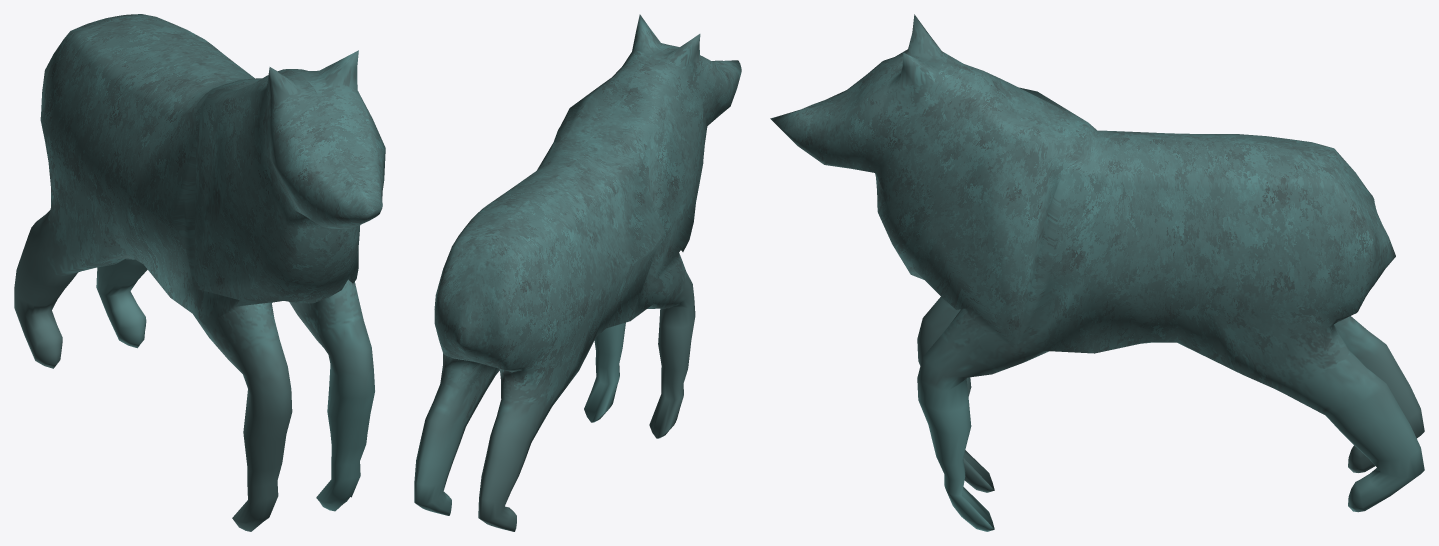
The model's file is piesblend_000007.obj.
The picture shows the model from 3 angles, left to right: view 1: azimuth 30°, elevation 25°; view 2: azimuth 150°, elevation 25°; view 3: azimuth 270°, elevation 25°; orthographic projection. The views are drawn at different scales.
Parts seen in each view (by area): view 1: Cube; view 2: Cube; view 3: Cube.
Boxes of the visible parts, x1,y1,x2,y2 form: Cube: (14,14,385,531); Cube: (414,14,741,531); Cube: (770,14,1424,531).
Bounding box in the file's own units: 2.55 × 7.07 × 8.88.
Materials: 1 (1 with a texture image).
